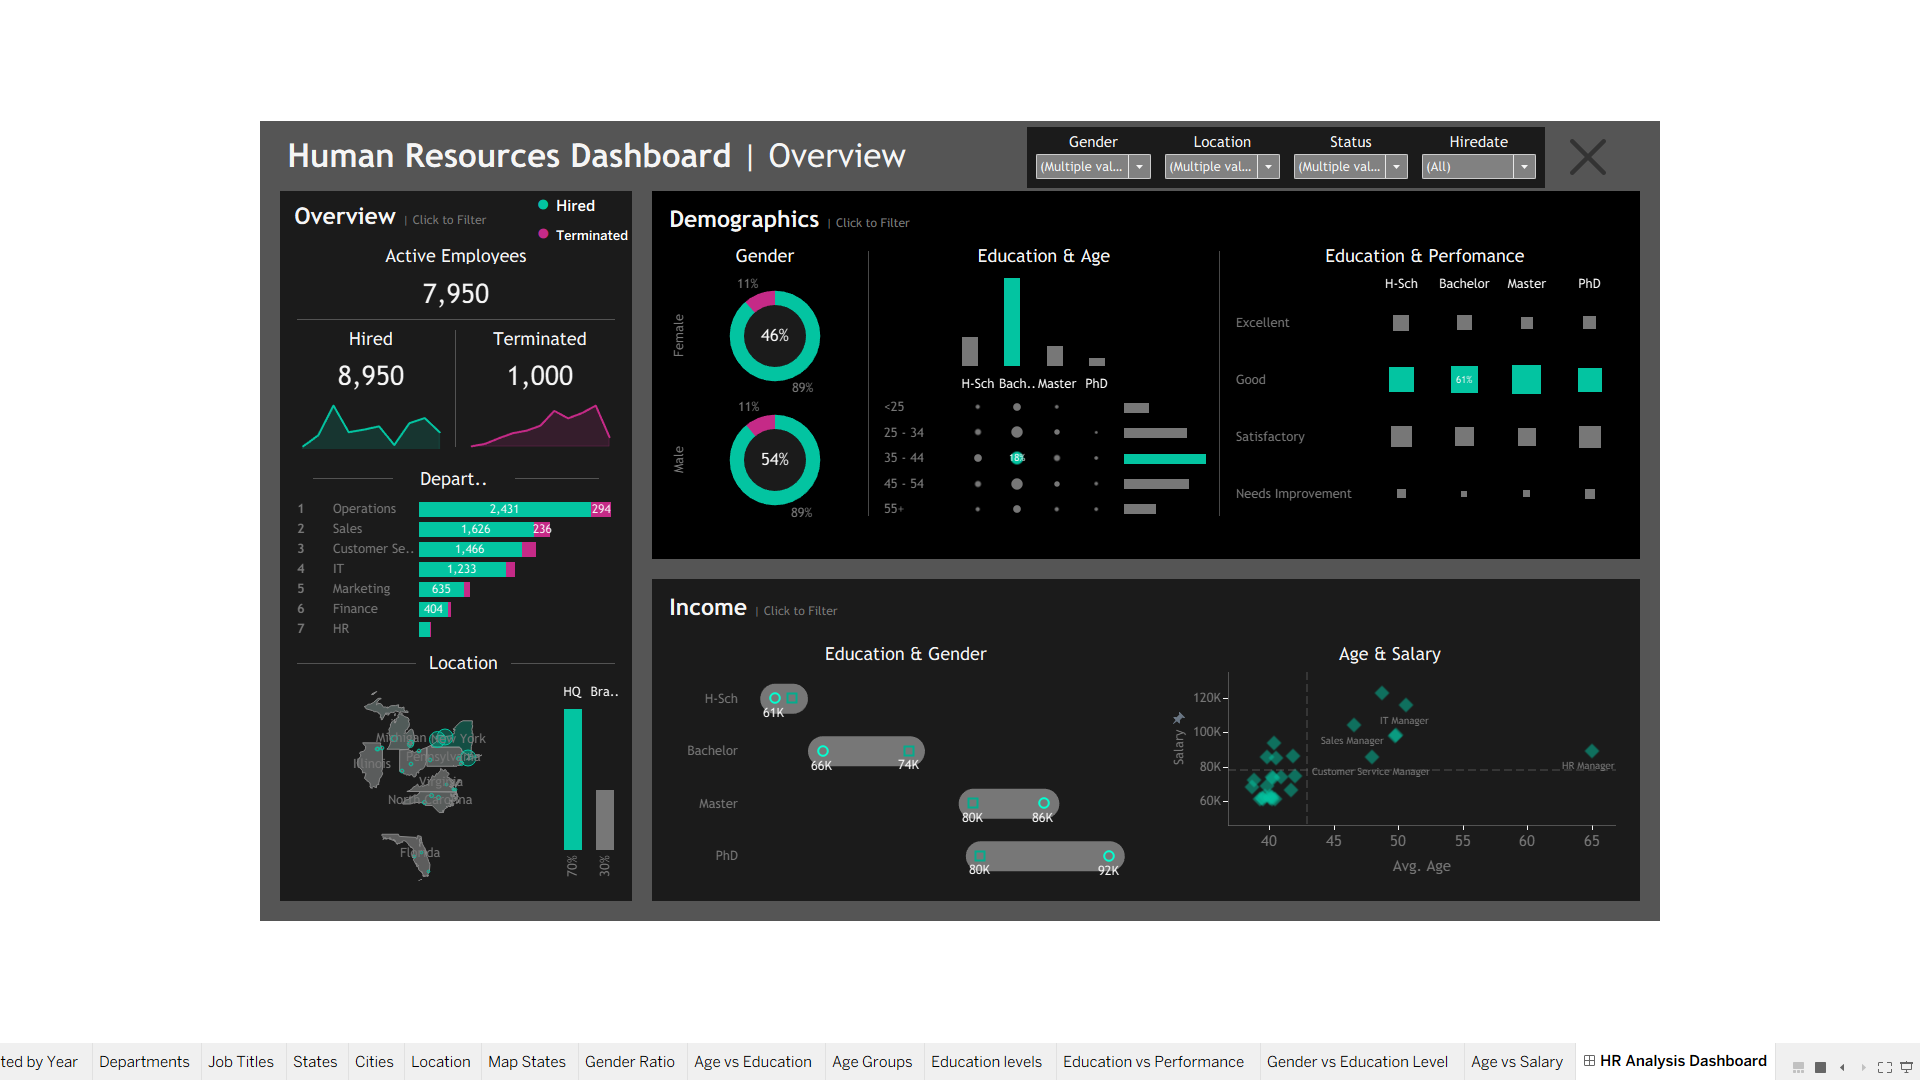

Layout of this report page (visuals, bound fields, positions):
{"tool":"tableau","page":{"name":"HR Analysis Dashboard","canvas":[1400,800],"ordinal":0},"visuals":[{"type":"text","box":[100,0,698,65]},{"type":"blank","box":[798,0,582,65]},{"type":"blank","box":[20,20,60,380]},{"type":"text","box":[107,72,369,35]},{"type":"text","box":[510,72,863,35]},{"type":"text","box":[107,107,369,29]},{"type":"text","box":[510,112,206,29]},{"type":"blank","box":[716,112,1,285]},{"type":"text","box":[722,112,340,29]},{"type":"blank","box":[1067,112,1,285]},{"type":"text","box":[1073,112,295,29]},{"type":"worksheet","title":"BAN Active","mark":"Text","box":[107,136,369,51]},{"type":"worksheet","title":"Gender Ratio","mark":"Pie","rows":["gender"],"cols":["Calculation_0015694347878410","Calculation_0015694347878410"],"box":[510,141,206,256]},{"type":"worksheet","title":"Education levels","mark":"Bar","rows":["Calculation_0015694335651840"],"cols":["education_level"],"box":[722,141,340,100]},{"type":"worksheet","title":"Education vs Performance","mark":"Square","rows":["performance_rating"],"cols":["education_level"],"box":[1073,141,295,256]},{"type":"blank","box":[107,187,369,1]},{"type":"blank","box":[293,188,1,137]},{"type":"text","box":[111,192,178,29]},{"type":"text","box":[298,192,174,29]},{"type":"worksheet","title":"BAN Hired","mark":"Text","box":[111,221,178,45]},{"type":"worksheet","title":"BAN Terminated","mark":"Text","box":[298,221,174,45]},{"type":"worksheet","title":"Age vs Education","mark":"Circle","rows":["Calculation_0015694350348300"],"cols":["education_level"],"box":[722,241,246,156]},{"type":"worksheet","title":"Age Groups","mark":"Bar","rows":["Calculation_0015694350348300"],"cols":["Calculation_0015694335651840"],"box":[968,241,94,156]},{"type":"worksheet","title":"Hired by Year","mark":"Line","rows":["Calculation_0015694335651840","Calculation_0015694335651840"],"cols":["hiredate"],"box":[111,266,178,55]},{"type":"worksheet","title":"Terminated by Year","mark":"Line","rows":["Calculation_0015694335897601","Calculation_0015694335897601"],"cols":["termdate"],"box":[298,266,174,55]},{"type":"blank","box":[117,330,112,33]},{"type":"text","box":[229,330,121,33]},{"type":"blank","box":[350,330,116,33]},{"type":"worksheet","title":"Departments","mark":"Bar","rows":["Calculation_0015694341132293","department"],"cols":["Calculation_0015694335651840"],"box":[107,363,369,148]},{"type":"blank","box":[20,400,60,380]},{"type":"text","box":[510,462,863,35]},{"type":"blank","box":[945,502,1,267]},{"type":"text","box":[515,512,425,29]},{"type":"text","box":[956,512,407,29]},{"type":"blank","box":[117,516,119,30]},{"type":"text","box":[236,516,111,30]},{"type":"blank","box":[347,516,119,30]},{"type":"worksheet","title":"Gender vs Education Level","mark":"Square","rows":["education_level"],"cols":["salary","salary"],"box":[515,541,425,223]},{"type":"worksheet","title":"Age vs Salary","mark":"Shape","rows":["salary"],"cols":["Calculation_0015694349856779"],"box":[956,541,407,223]},{"type":"worksheet","title":"Map States","mark":"Automatic","box":[107,546,259.8,224]},{"type":"worksheet","title":"Location","mark":"Bar","rows":["Calculation_0015694335651840"],"cols":["Calculation_0015694341844998"],"box":[366.8,546,109.2,224]}]}

Visuals, with their boxes on the page's 1400x800 design canvas (x1, y1, x2, y2). These are canvas units, not pixel positions in the 1920x1080 screenshot, which may show the page scaled, cropped or inside an application window:
text: 100,0,798,65
blank: 798,0,1380,65
blank: 20,20,80,400
text: 107,72,476,107
text: 510,72,1373,107
text: 107,107,476,136
text: 510,112,716,141
blank: 716,112,717,397
text: 722,112,1062,141
blank: 1067,112,1068,397
text: 1073,112,1368,141
"BAN Active" worksheet (Text marks): 107,136,476,187
"Gender Ratio" worksheet (Pie marks): 510,141,716,397
"Education levels" worksheet (Bar marks): 722,141,1062,241
"Education vs Performance" worksheet (Square marks): 1073,141,1368,397
blank: 107,187,476,188
blank: 293,188,294,325
text: 111,192,289,221
text: 298,192,472,221
"BAN Hired" worksheet (Text marks): 111,221,289,266
"BAN Terminated" worksheet (Text marks): 298,221,472,266
"Age vs Education" worksheet (Circle marks): 722,241,968,397
"Age Groups" worksheet (Bar marks): 968,241,1062,397
"Hired by Year" worksheet (Line marks): 111,266,289,321
"Terminated by Year" worksheet (Line marks): 298,266,472,321
blank: 117,330,229,363
text: 229,330,350,363
blank: 350,330,466,363
"Departments" worksheet (Bar marks): 107,363,476,511
blank: 20,400,80,780
text: 510,462,1373,497
blank: 945,502,946,769
text: 515,512,940,541
text: 956,512,1363,541
blank: 117,516,236,546
text: 236,516,347,546
blank: 347,516,466,546
"Gender vs Education Level" worksheet (Square marks): 515,541,940,764
"Age vs Salary" worksheet (Shape marks): 956,541,1363,764
"Map States" worksheet: 107,546,367,770
"Location" worksheet (Bar marks): 367,546,476,770
